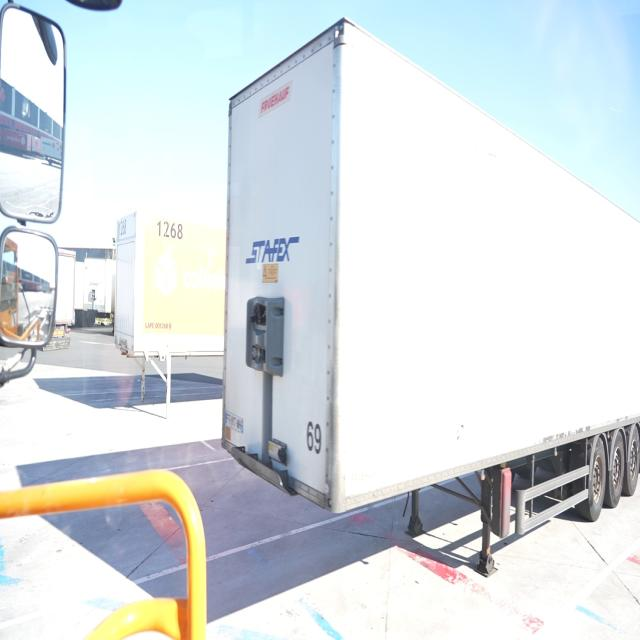Code: (153, 216, 189, 242)
